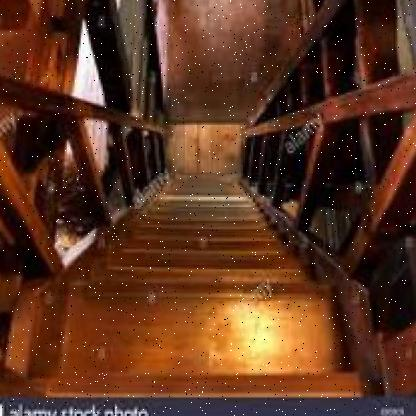stair_down: (80, 213, 324, 307)
